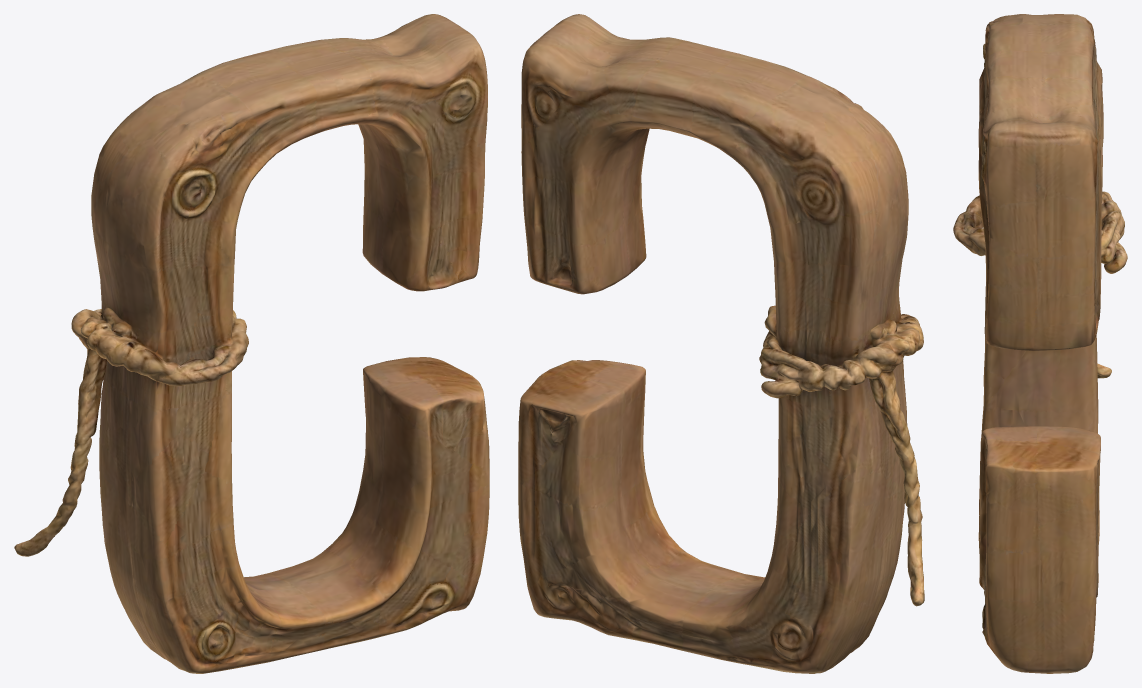
3 renders of one model, left to right at view 1: azimuth 30°, elevation 25°; view 2: azimuth 150°, elevation 25°; view 3: azimuth 270°, elevation 25°, orthographic. The views are drawn at different scales.
Size of the model in its own units: 1.53 by 2 by 0.5753.
1 material, 1 textured.
